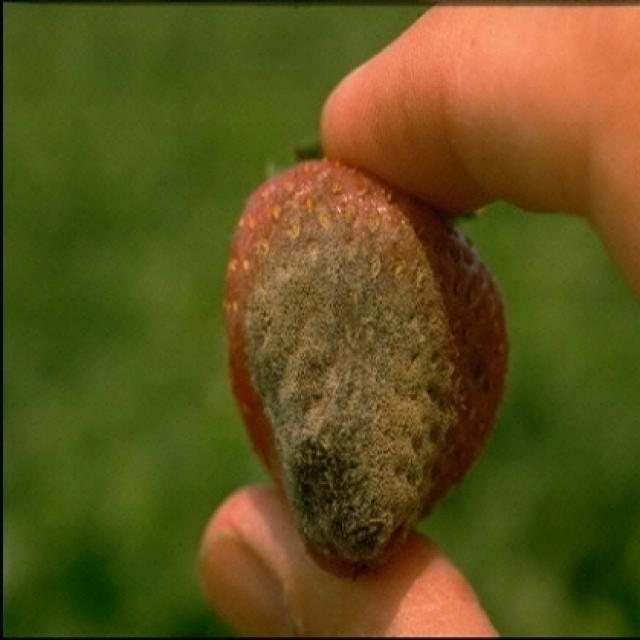Gray Mold: (229, 169, 483, 575)
